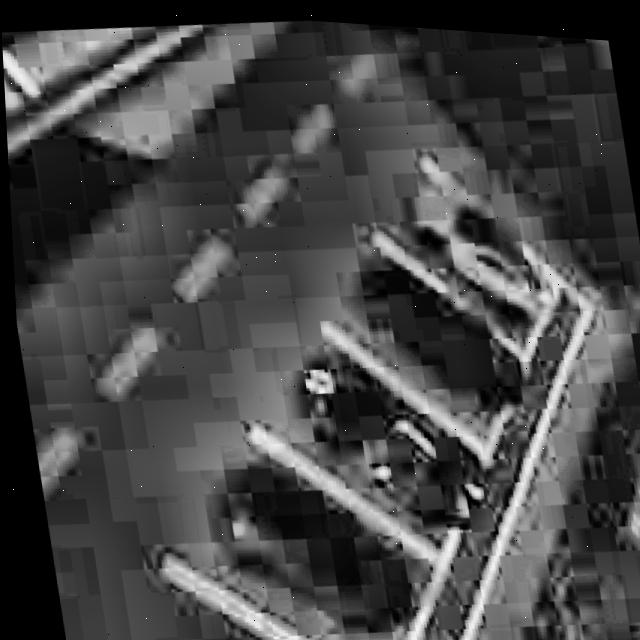car: (184, 433, 435, 640), (267, 325, 502, 546), (334, 229, 542, 439), (386, 148, 569, 338)
